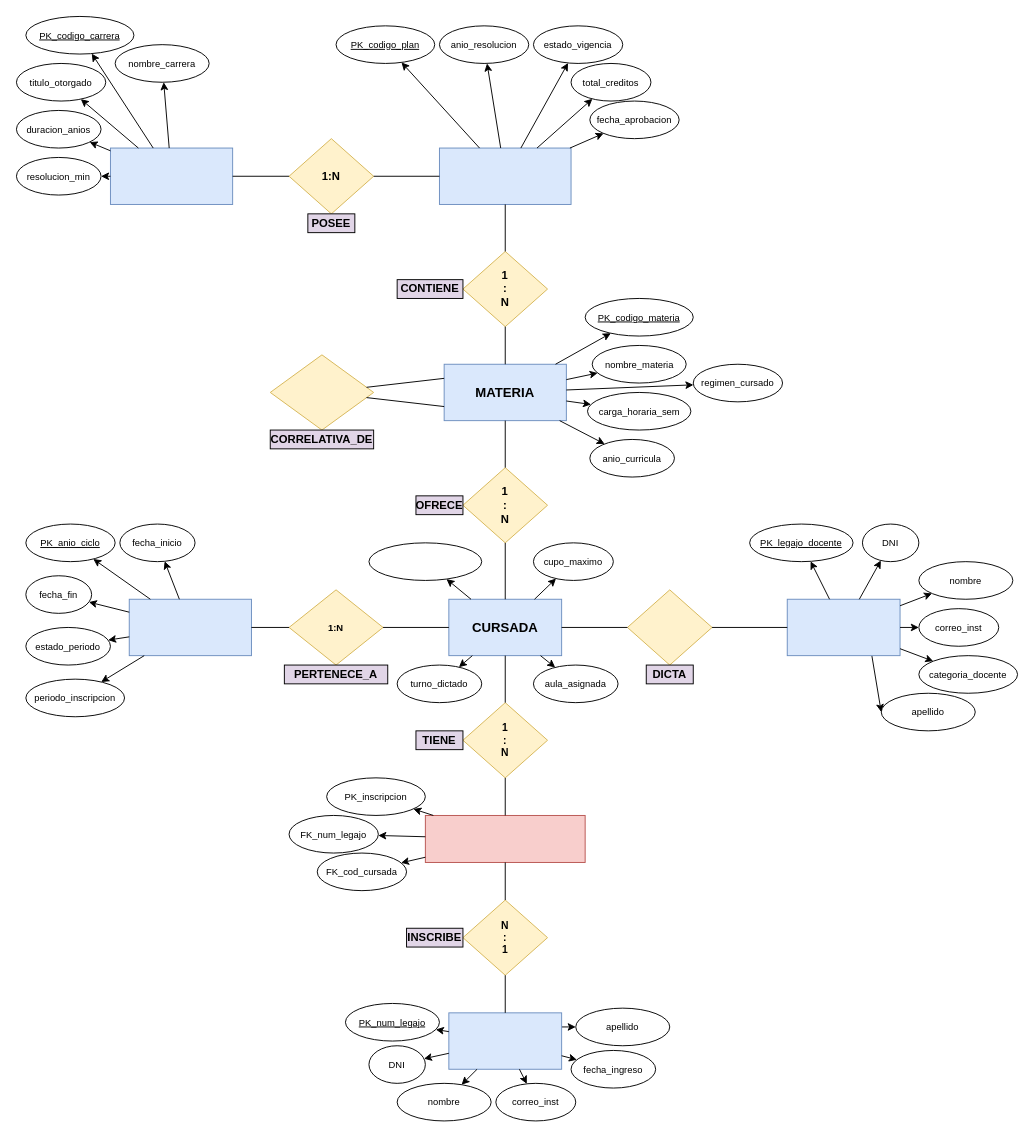
This 1034x1137 diagram has some shape labels left out. The shapes that lost their labels are listed below. From the top down, each one's box as (x1, y1, x2, y2) in pixels, then its label:
(110, 147, 233, 204): CARRERA
(439, 147, 571, 204): PLAN_ESTUDIO
(269, 354, 374, 430): M(Previa) : N (siguiente)
(368, 542, 482, 580): PK_cod_cursada
(128, 598, 251, 656): CICLO_LECTIVO
(627, 589, 712, 665): N:1
(786, 598, 900, 656): PROFESOR
(424, 815, 585, 862): INSCRIPCION_ALUMNO_ CURSADA
(448, 1012, 562, 1069): ALUMNO
